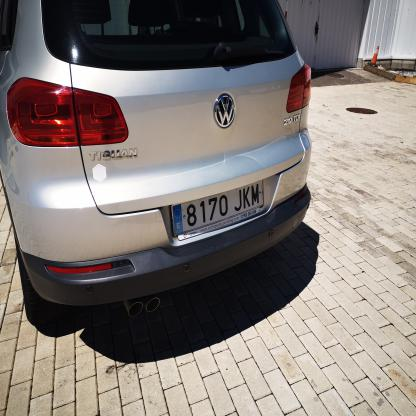patente: (172, 179, 263, 238)
